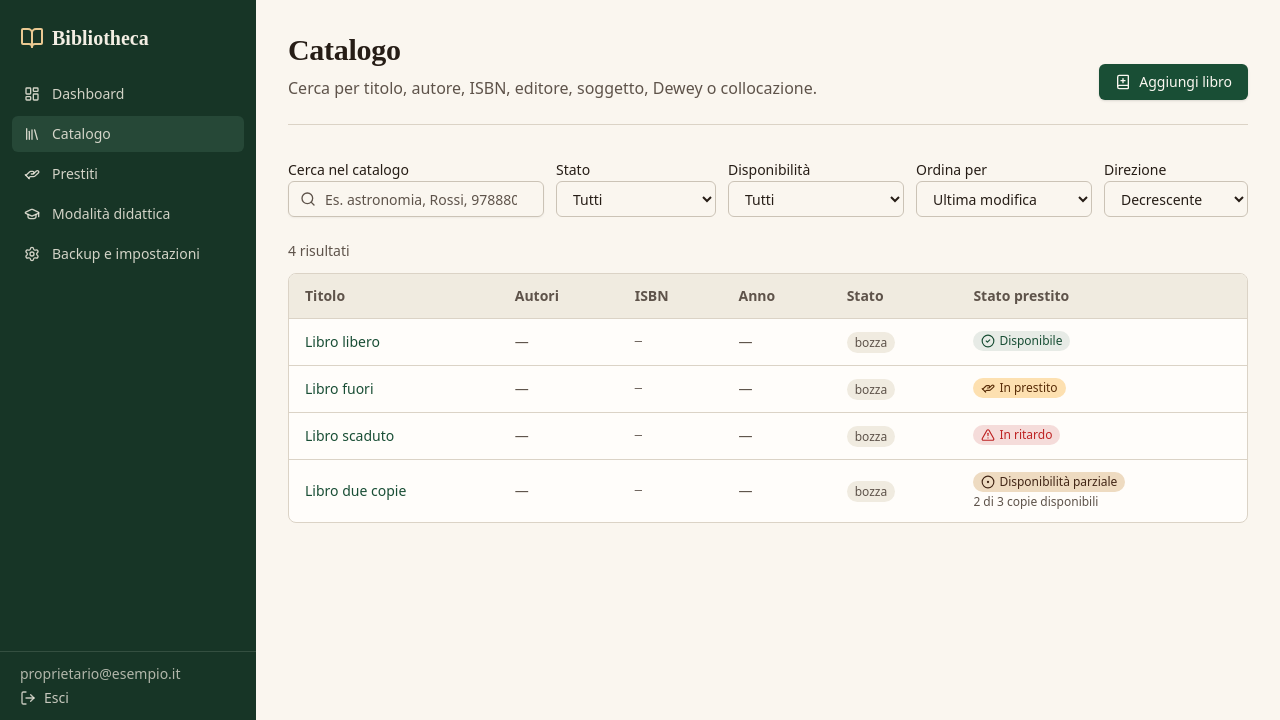
Scenario: Catalogo — colonna «Stato prestito» › il filtro «Disponibilità» restringe l'elenco e si combina con la ricerca
Expected: the table is shown, [289,274,1247,522]
Select "In ritardo" in the dropdown labelled "Disponibilità" at (816, 199), box [728,181,904,217]
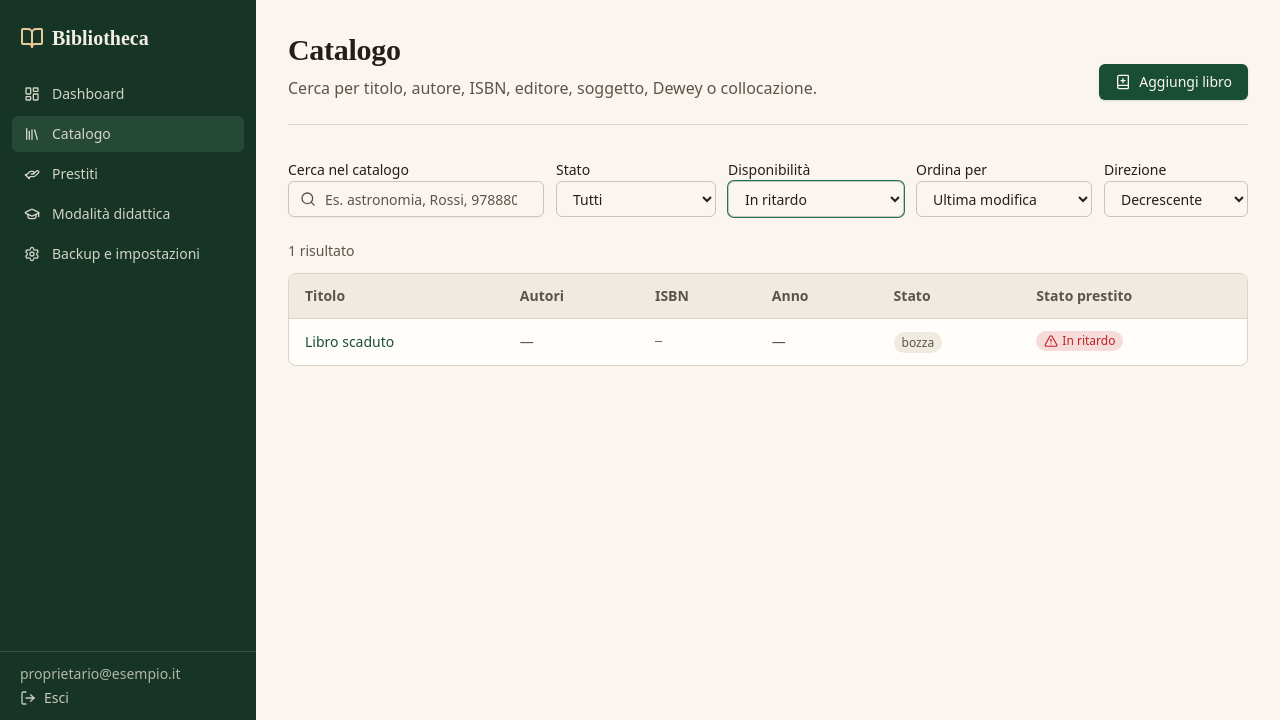
Expected: the link "Libro scaduto" is shown, [305,332,394,351]
Expected: the link "Libro libero" is gone
Select "Disponibilità parziale" in the dropdown labelled "Disponibilità" at (816, 199), box [728,181,904,217]
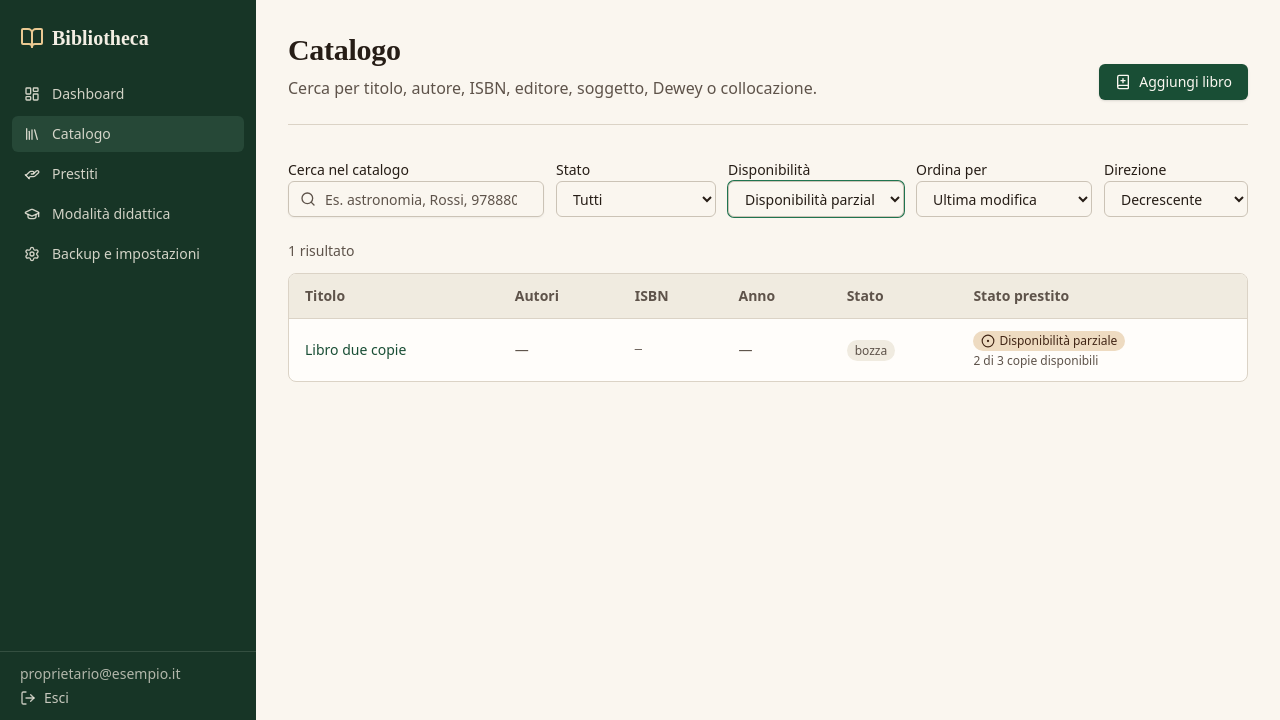
Expected: the link "Libro due copie" is shown, [305,340,406,359]
Select "Disponibili" in the dropdown labelled "Disponibilità" at (816, 199), box [728,181,904,217]
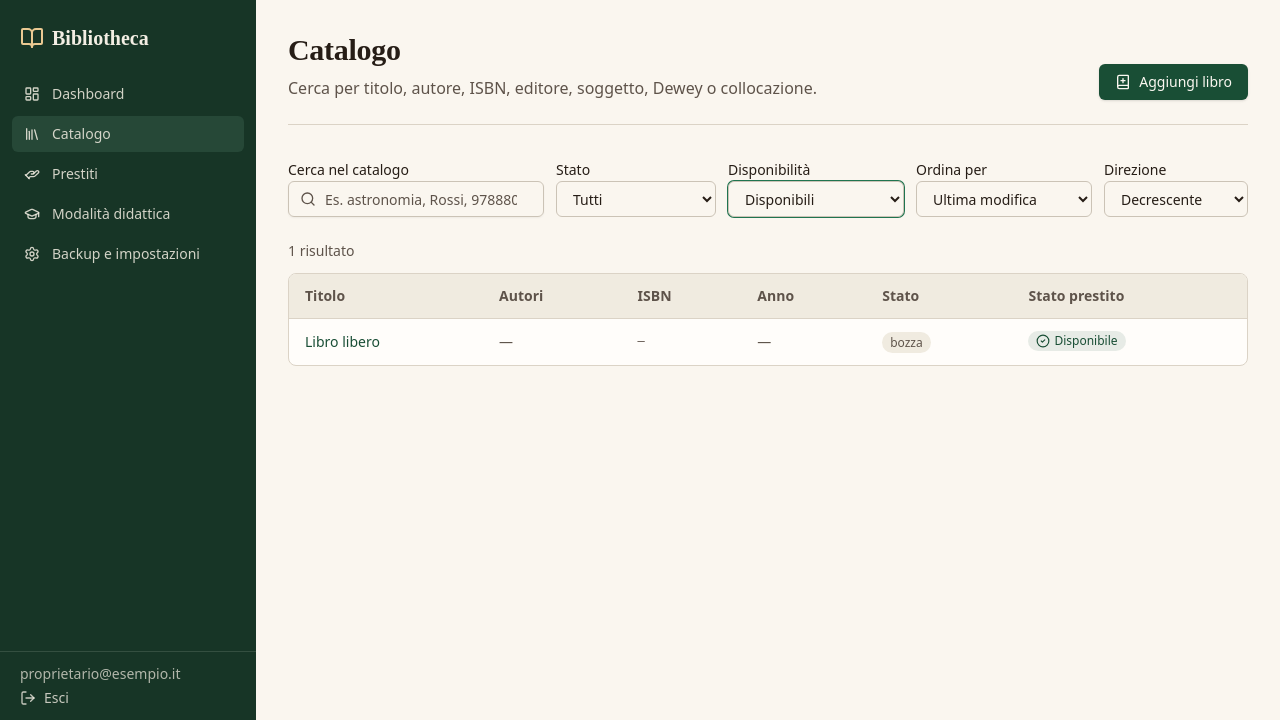
Expected: the link "Libro libero" is shown, [305,332,380,351]
Type "fuori" into the search field labelled "Cerca nel catalogo" at (416, 199), box [288,181,544,217]
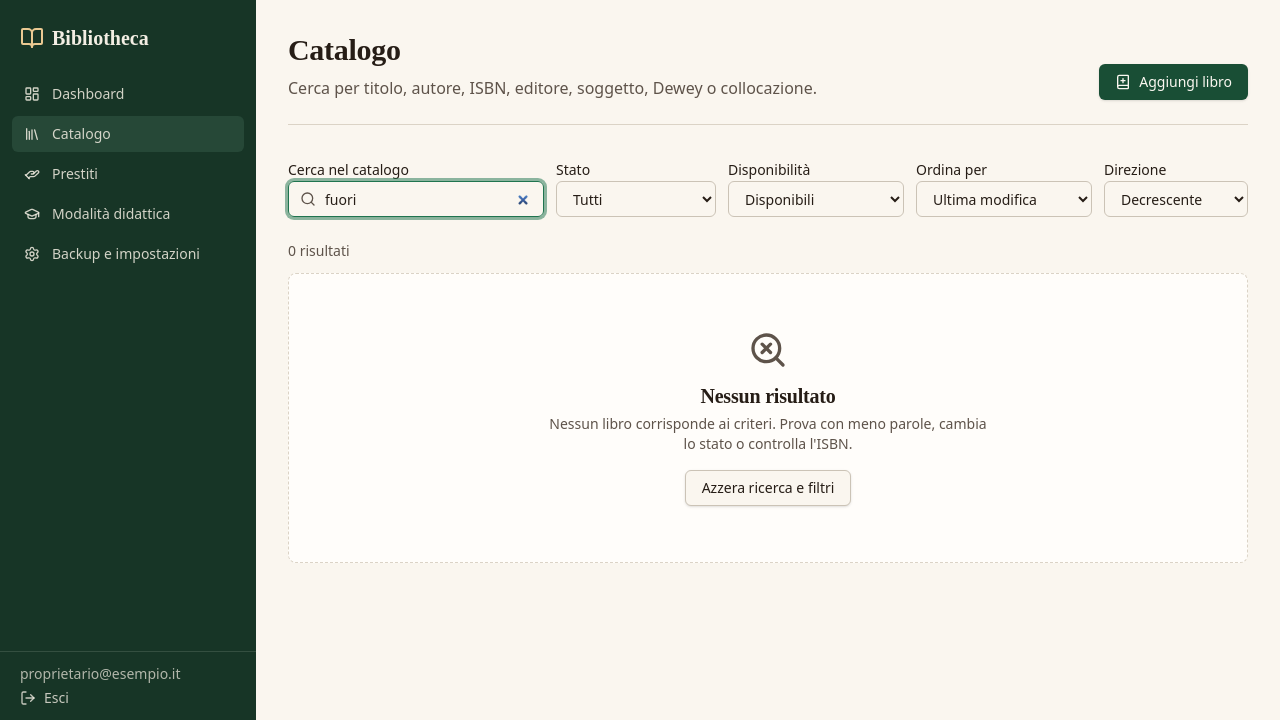
Expected: the heading "Nessun risultato" is shown, [700,382,836,410]
